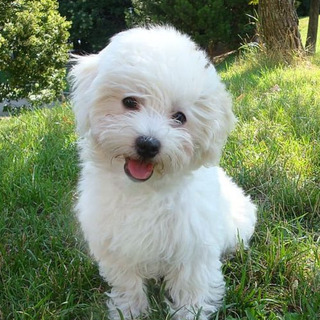perro: (64, 17, 248, 208)
